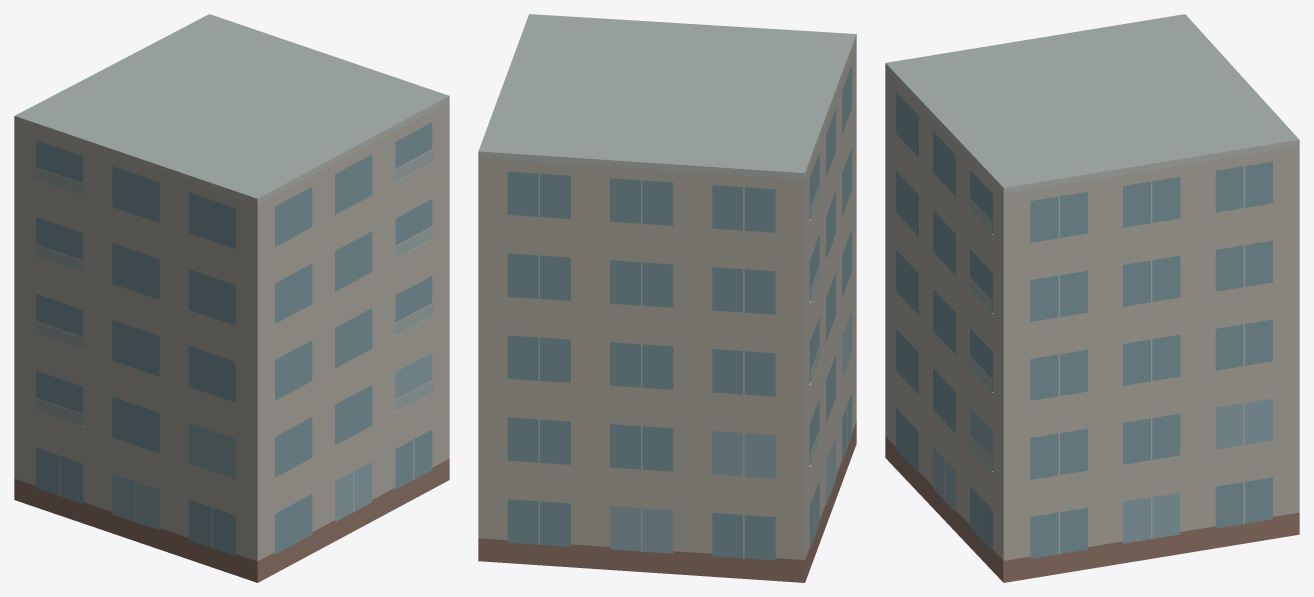
File: survey-upis-32857773.glb
3 renders of one model, left to right at view 1: azimuth 30°, elevation 25°; view 2: azimuth 150°, elevation 25°; view 3: azimuth 270°, elevation 25°, orthographic. The views are drawn at different scales.
Visible parts, largest first — view 1: survey-upis-32857773.tmp; view 2: survey-upis-32857773.tmp; view 3: survey-upis-32857773.tmp.
Boxes of the visible parts, <box> form: survey-upis-32857773.tmp: <box>14,14,449,582</box>; survey-upis-32857773.tmp: <box>478,14,856,582</box>; survey-upis-32857773.tmp: <box>885,14,1299,582</box>.
Bounding box in the file's own units: 14.94 × 15.8 × 15.02.
